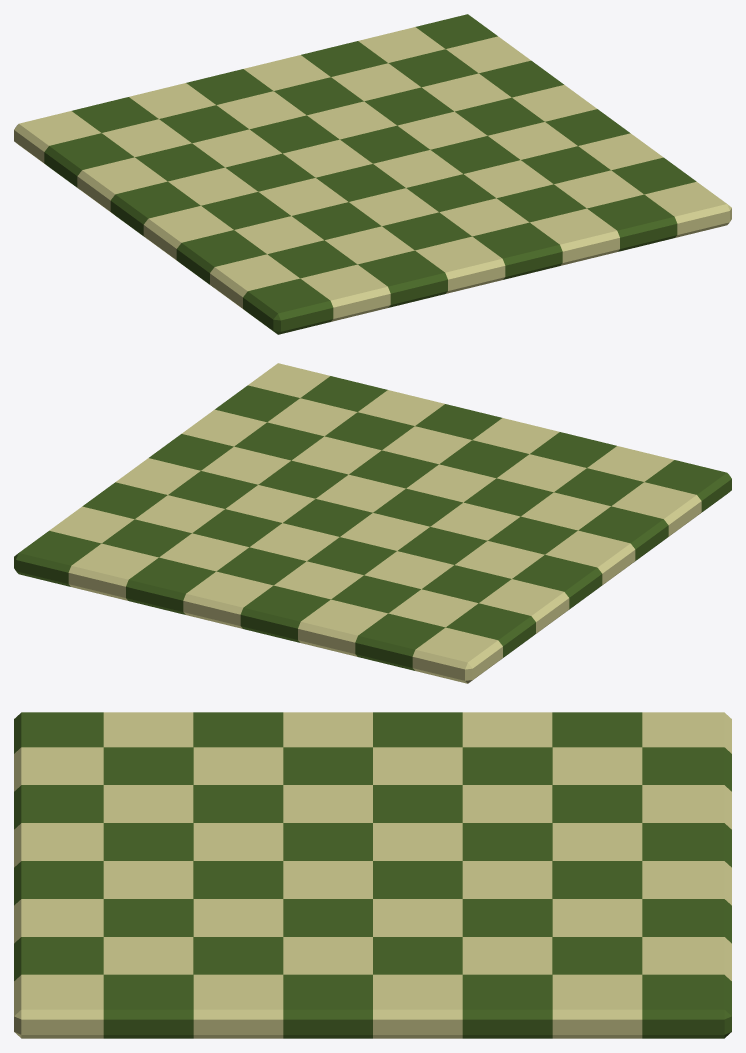
Rendered from chess_board.fbx.
3 views of the same model, one above another, from view 1: azimuth 30°, elevation 25°; view 2: azimuth 150°, elevation 25°; view 3: azimuth 270°, elevation 25° (orthographic). The views are drawn at different scales.
Visible parts, largest first — view 1: chess_board; view 2: chess_board; view 3: chess_board.
Part boxes in pixels (x1,y1,x2,y2): chess_board: (14,14,731,334); chess_board: (14,363,731,683); chess_board: (14,712,731,1038).
Bounding box in the file's own units: 480 × 480 × 21.36.
